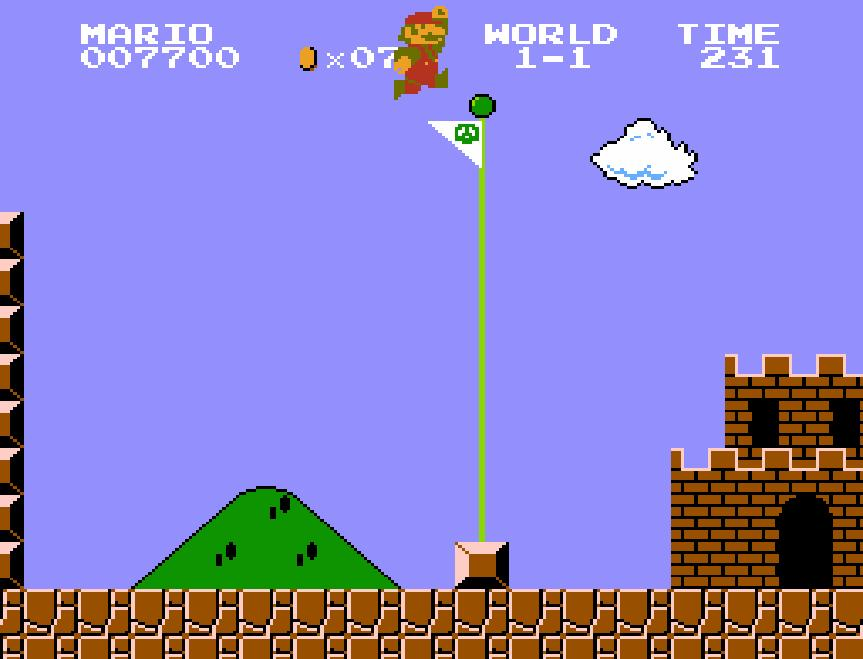big_mario: (392, 2, 450, 100)
